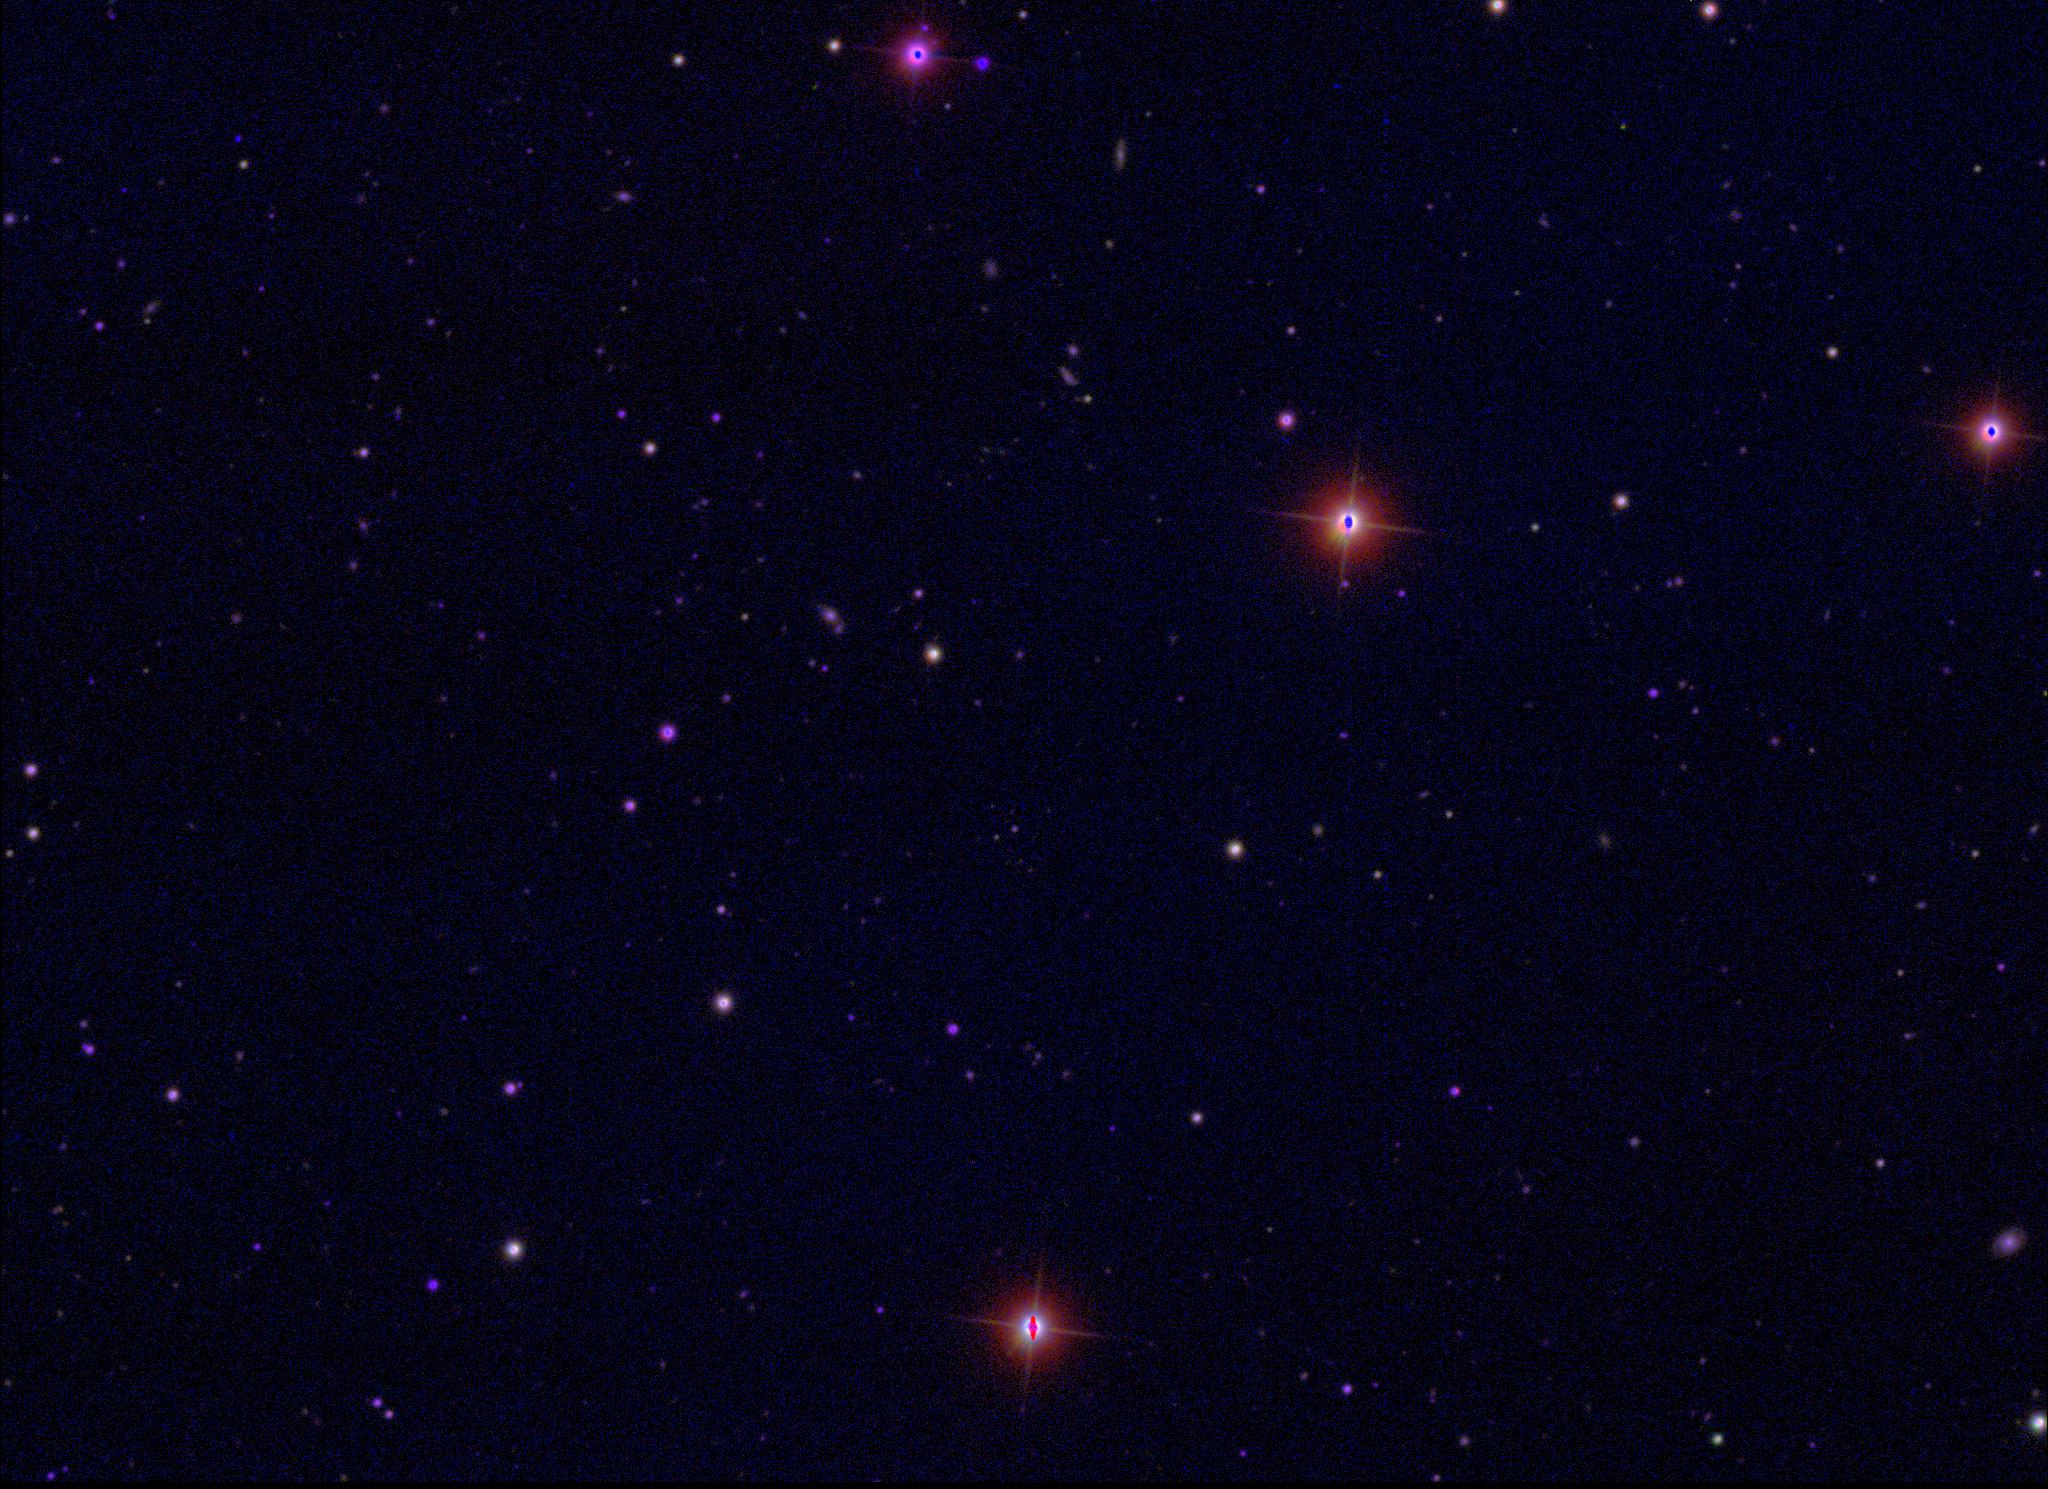L: (227, 129, 242, 143)
